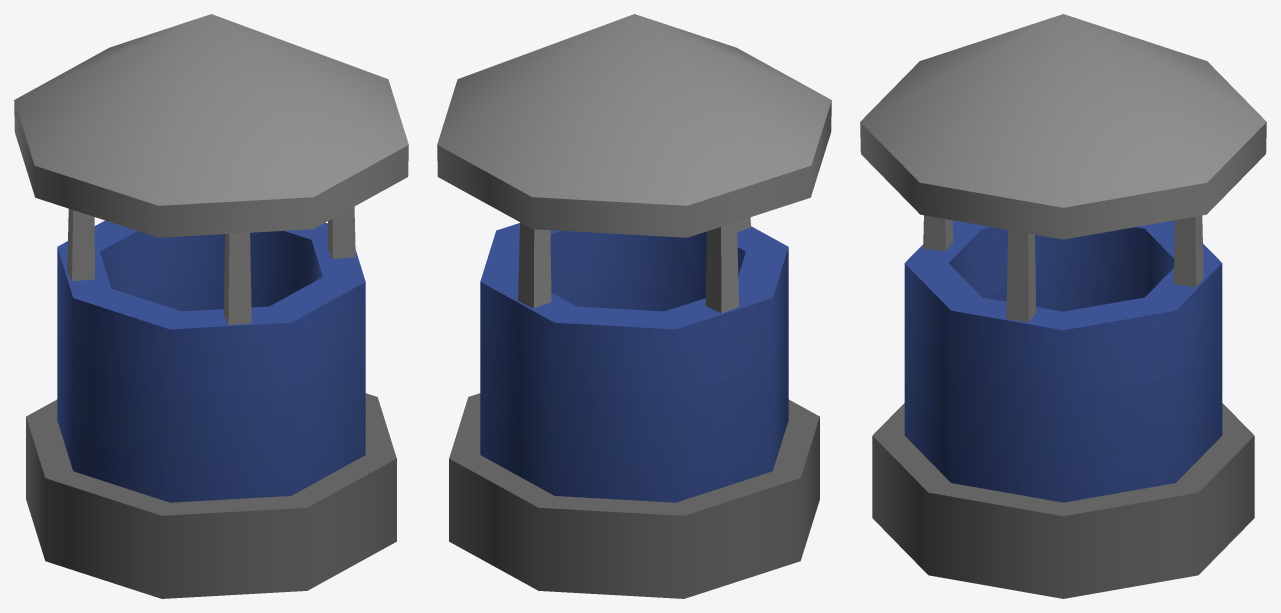
The model's file is Chimney_1_D_5.fbx.
The picture shows the model from 3 angles, left to right: view 1: azimuth 30°, elevation 25°; view 2: azimuth 150°, elevation 25°; view 3: azimuth 270°, elevation 25°; orthographic projection.
Visible parts, largest first — view 1: Chimney_1_D_5; view 2: Chimney_1_D_5; view 3: Chimney_1_D_5.
Boxes of the visible parts, x1=… form: Chimney_1_D_5: x1=14, y1=14, x2=408, y2=598; Chimney_1_D_5: x1=437, y1=14, x2=831, y2=598; Chimney_1_D_5: x1=860, y1=14, x2=1266, y2=598.
Bounding box in the file's own units: 49.17 × 67.27 × 49.17.
